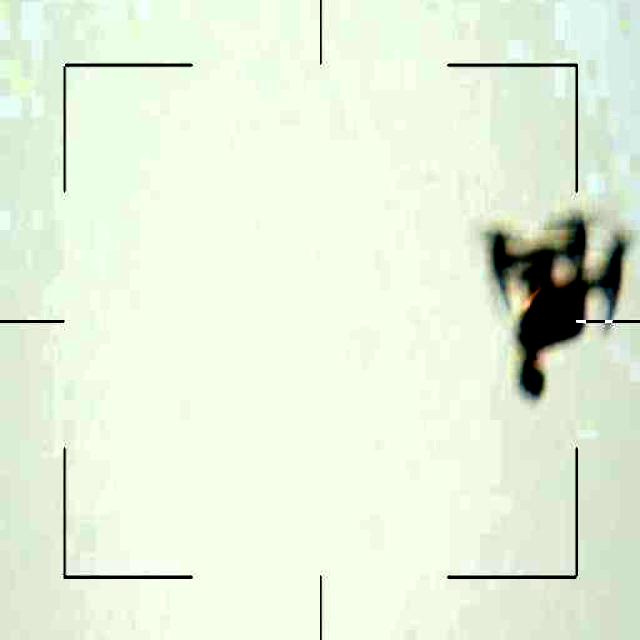bird: (478, 210, 640, 398)
